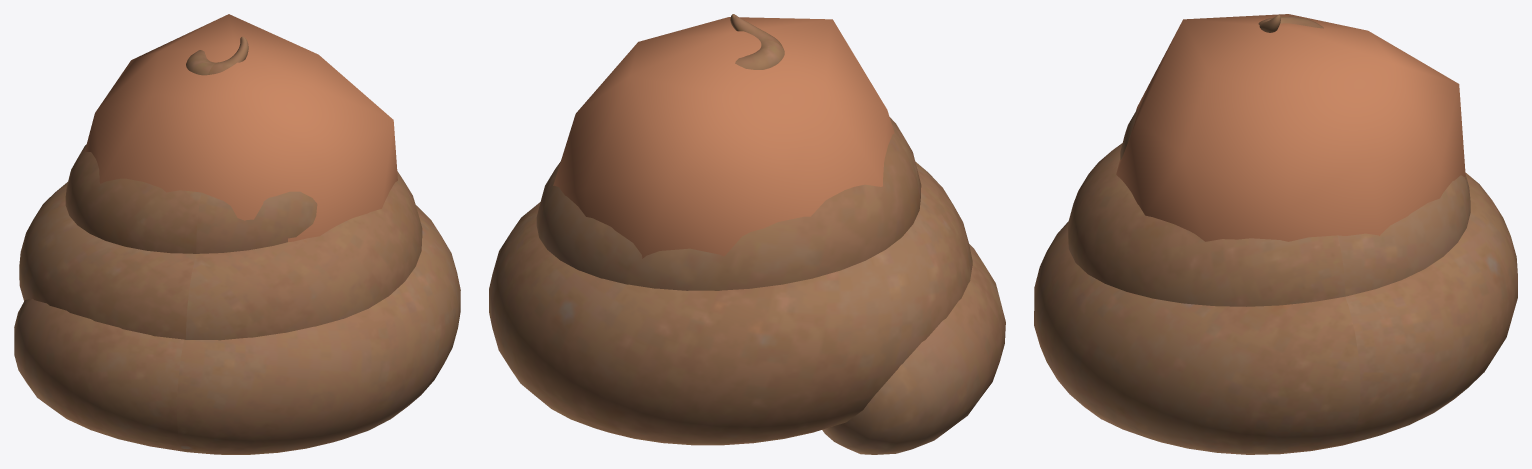
The model's file is Grenade_ShitBall.fbx.
3 renders of one model, left to right at view 1: azimuth 30°, elevation 25°; view 2: azimuth 150°, elevation 25°; view 3: azimuth 270°, elevation 25°, orthographic. The views are drawn at different scales.
Parts seen in each view (by area): view 1: shi, SM_ShitBall; view 2: shi, SM_ShitBall; view 3: shi, SM_ShitBall.
Part boxes in pixels (<box>): shi: <box>14,36,460,454</box>; SM_ShitBall: <box>84,14,397,241</box>; shi: <box>489,14,1005,454</box>; SM_ShitBall: <box>553,17,894,258</box>; shi: <box>1034,15,1517,454</box>; SM_ShitBall: <box>1116,14,1465,241</box>.
Bounding box in the file's own units: 0.4 × 0.3294 × 0.3833.
